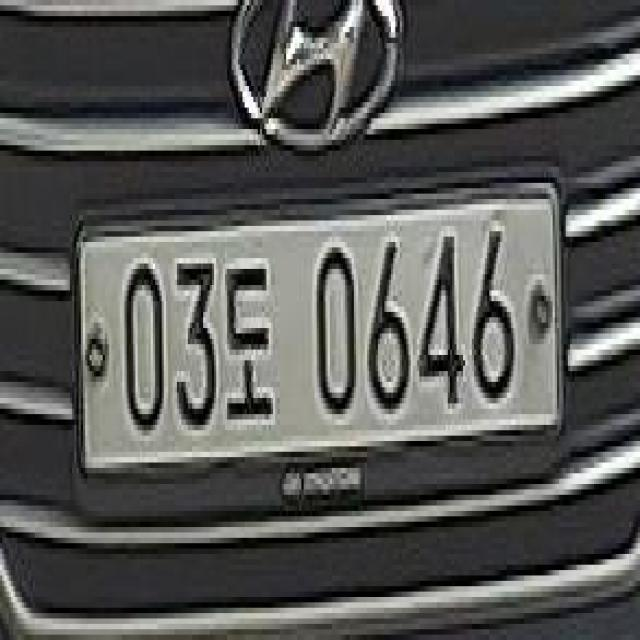illegal_plate: (74, 181, 563, 506)
